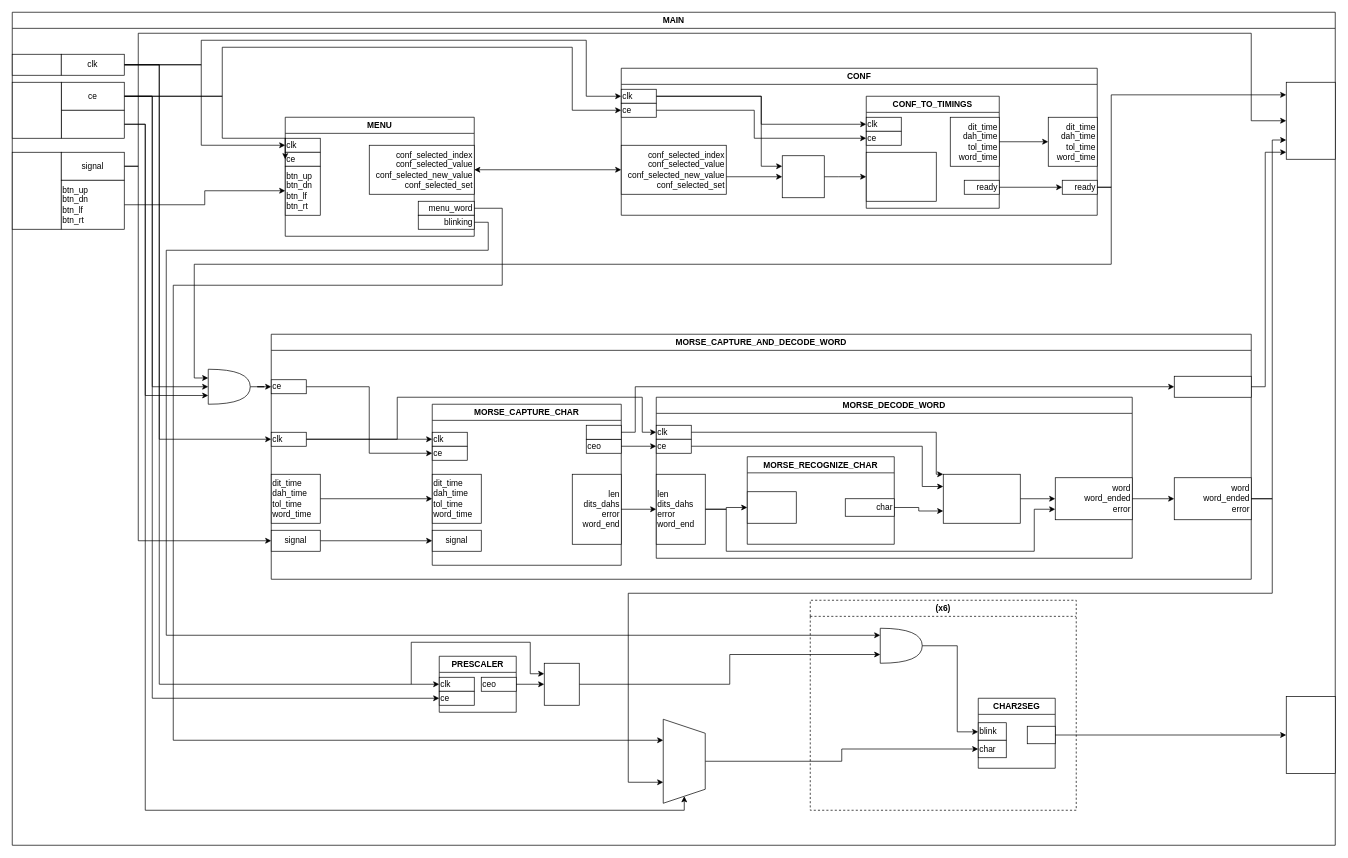
This 1348x858 diagram has some shape labels left out. The shapes that lost their labels are listed below. From the top down, each one's centre as x and y in pixels, then its label:
point (36, 64): clk50
point (36, 110): SW[9:0]
point (92, 124): enable_morse
point (1310, 120): LED[9:0]
point (36, 190): KEY[3:0]
point (803, 176): DFF
point (901, 176): dit_unit dah_unit tol_unit word_unit pulses_per_unit
point (1212, 386): capture_running
point (603, 432): run
point (771, 507): len dits_dahs
point (981, 498): SHIFT_REG
point (561, 684): TFF
point (1041, 735): seg
point (1310, 735): HEX
